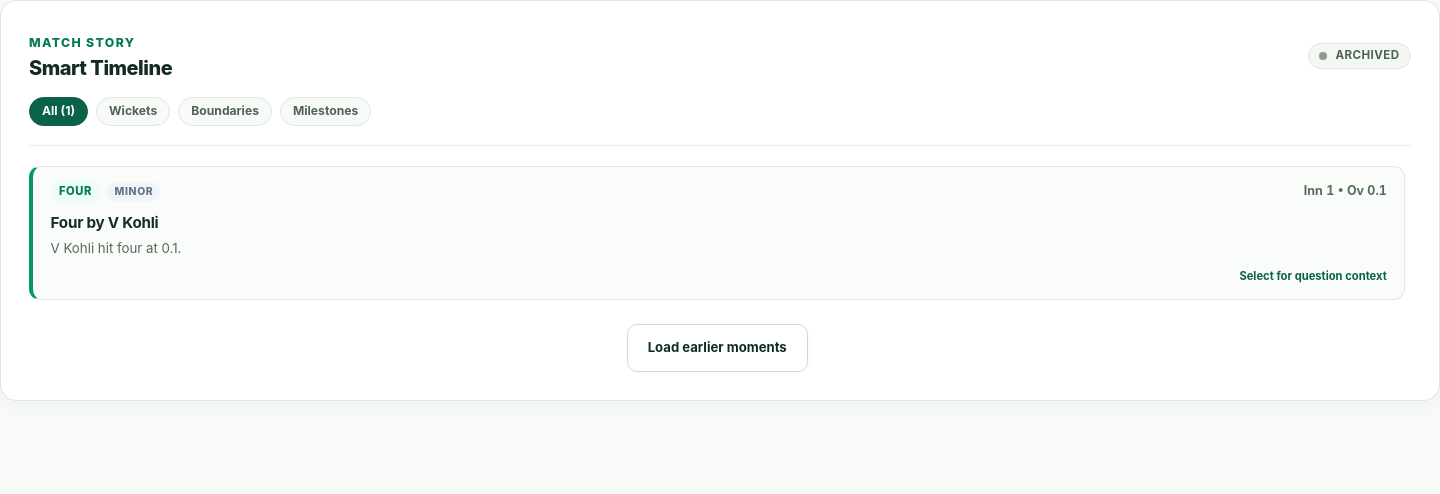
Test: SmartMatchTimeline › supports cursor pagination via load earlier moments button
The image size is (1440, 494).
Expected: the heading "Four by V Kohli" is shown, x1=51 y1=213 x2=158 y2=232
Click the button "Load earlier moments".
click(717, 348)  # box x1=627 y1=324 x2=808 y2=372
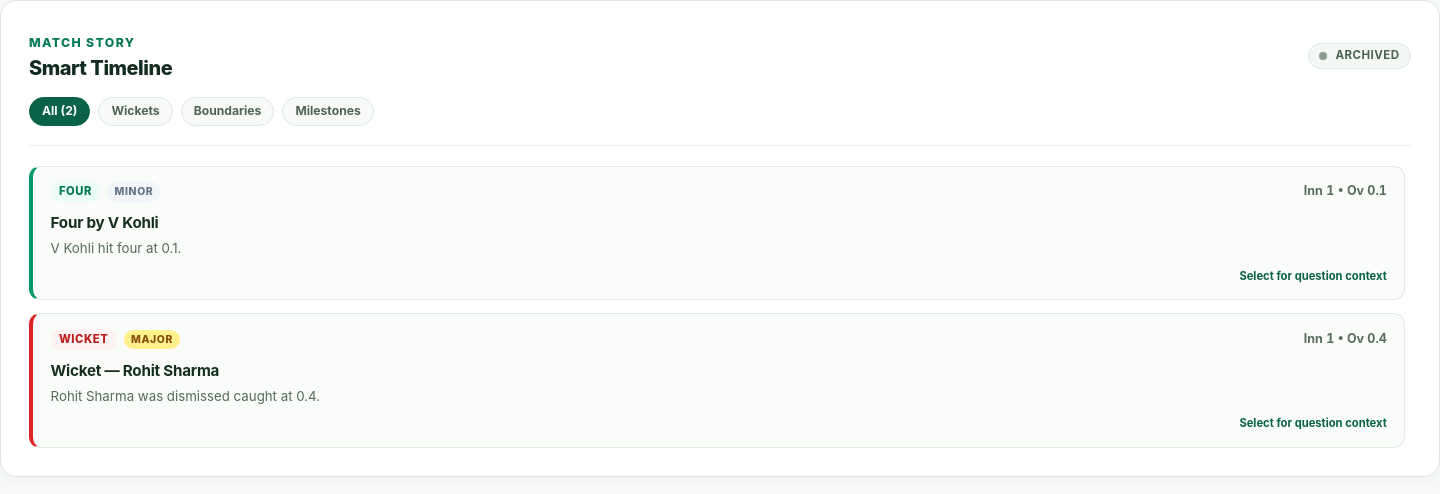
Now the heading "Wicket — Rohit Sharma" is shown, box x1=51 y1=361 x2=219 y2=380
Now the button "Load earlier moments" is gone
